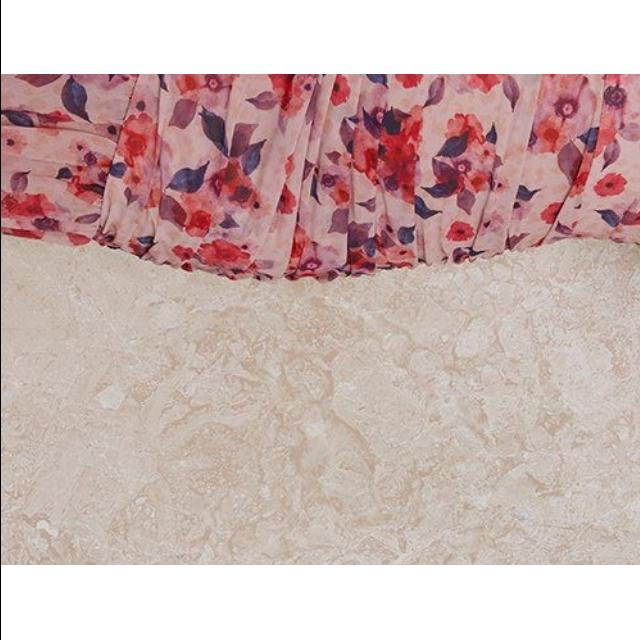polyester: (0, 74, 640, 280)
